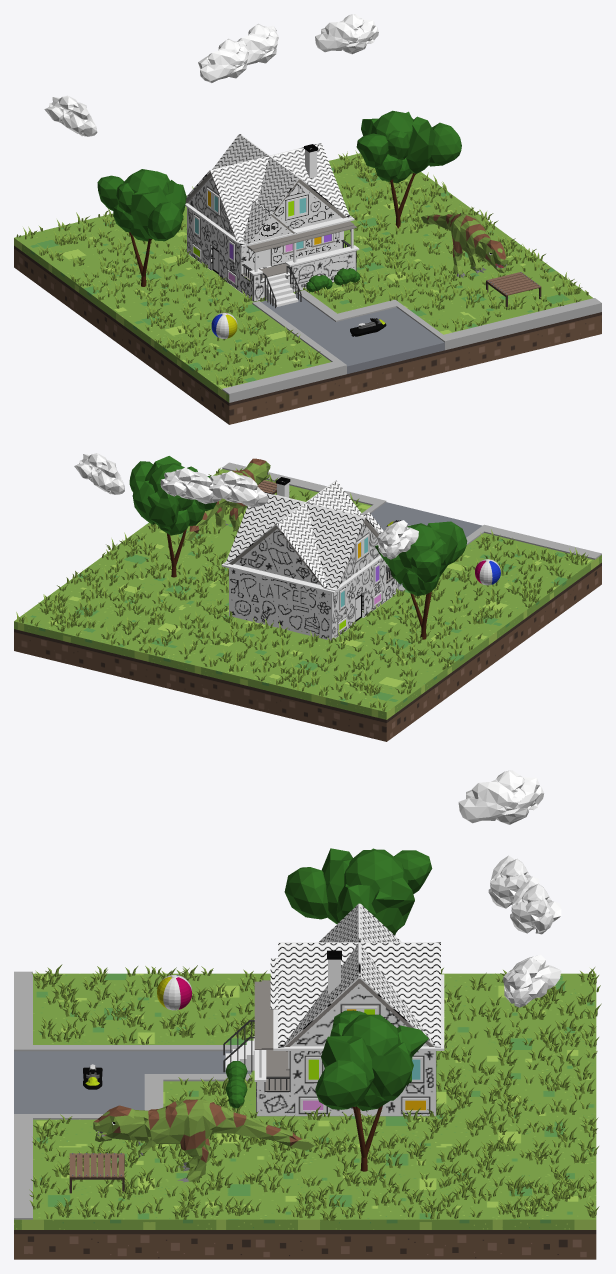
3 views of the same model, one above another, from view 1: azimuth 30°, elevation 25°; view 2: azimuth 150°, elevation 25°; view 3: azimuth 270°, elevation 25° (orthographic). The views are drawn at different scales.
Visible parts, largest first — view 1: Cube.006, Cube.879, Circle.012_Grass_0.192, Cube.007, tree, tree.001, ANIMAL_TREX, Cube.009, OBJRANDOM_BEACHBALL; view 2: Cube.006, Cube.879, Circle.012_Grass_0.192, Cube.007, tree.001, tree, ANIMAL_TREX, OBJRANDOM_BEACHBALL; view 3: Cube.006, Circle.012_Grass_0.192, Cube.879, tree, Cube.007, tree.001, ANIMAL_TREX, Cube.009, OBJRANDOM_BEACHBALL.
Part boxes in pixels (x1=…): Cube.006: x1=14, y1=153, x2=601, y2=424; Cube.879: x1=185, y1=134, x2=359, y2=308; Circle.012_Grass_0.192: x1=16, y1=150, x2=588, y2=386; Cube.007: x1=44, y1=14, x2=378, y2=136; tree: x1=356, y1=110, x2=461, y2=228; tree.001: x1=97, y1=169, x2=186, y2=286; ANIMAL_TREX: x1=421, y1=213, x2=507, y2=277; Cube.009: x1=486, y1=272, x2=541, y2=306; OBJRANDOM_BEACHBALL: x1=211, y1=312, x2=237, y2=338; Cube.006: x1=14, y1=462, x2=601, y2=741; Cube.879: x1=221, y1=477, x2=398, y2=640; Circle.012_Grass_0.192: x1=16, y1=468, x2=588, y2=711; Cube.007: x1=74, y1=453, x2=418, y2=559; tree.001: x1=375, y1=521, x2=467, y2=639; tree: x1=129, y1=456, x2=216, y2=577; ANIMAL_TREX: x1=184, y1=458, x2=270, y2=540; OBJRANDOM_BEACHBALL: x1=475, y1=559, x2=500, y2=585; Cube.006: x1=14, y1=971, x2=596, y2=1259; Circle.012_Grass_0.192: x1=29, y1=964, x2=601, y2=1220; Cube.879: x1=223, y1=903, x2=444, y2=1116; tree: x1=315, y1=1010, x2=428, y2=1171; Cube.007: x1=458, y1=770, x2=561, y2=1007; tree.001: x1=284, y1=848, x2=432, y2=935; ANIMAL_TREX: x1=93, y1=1099, x2=315, y2=1182; Cube.009: x1=69, y1=1153, x2=124, y2=1193; OBJRANDOM_BEACHBALL: x1=157, y1=975, x2=191, y2=1010.
Bounding box in the file's own units: 4071 × 2153 × 4040.
Materials: 38 (10 with a texture image).
